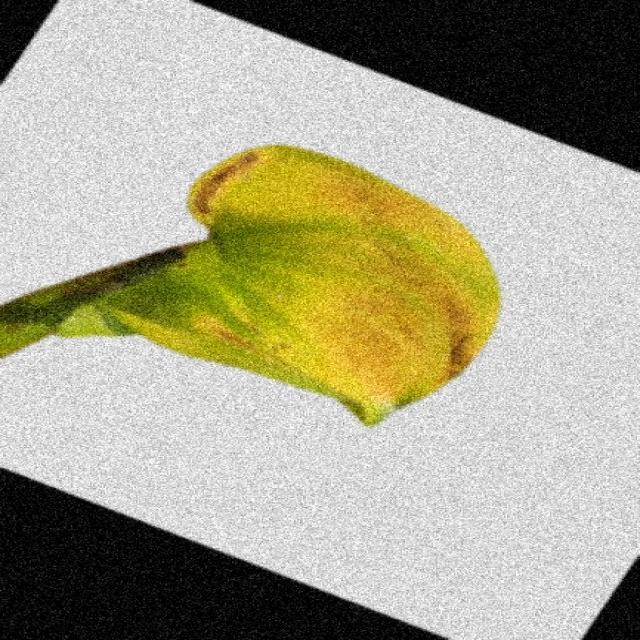daun berpenyakit kuning: (2, 145, 500, 424)
